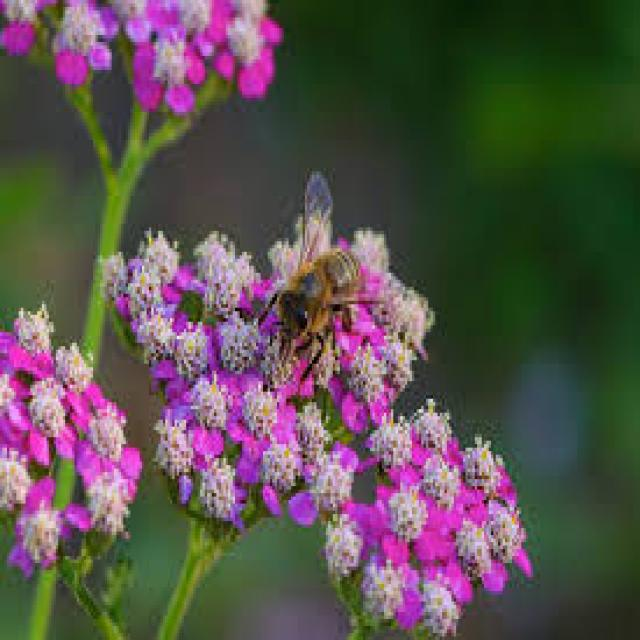Bees: (259, 170, 387, 387)
